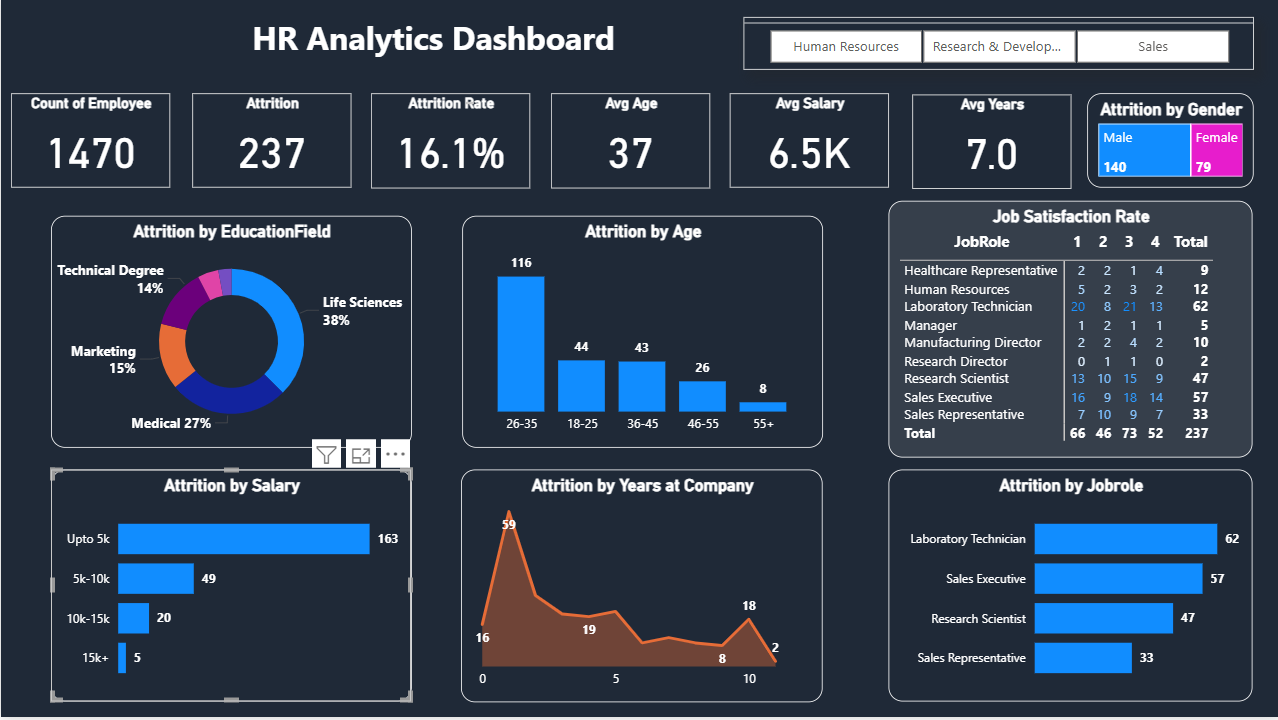

Layout of this report page (visuals, bound fields, positions):
{"tool":"powerbi","page":{"name":"Page 1","canvas":[1280,720],"ordinal":0},"visuals":[{"type":"card","title":"Count of Employee","fields":{"Values":["CountNonNull(HR_Analytics.EmpID)"]},"box":[9.7,96.5,159.3,94.1],"z":0},{"type":"card","title":"Attrition","fields":{"Values":["Sum(HR_Analytics.AttritionCount )"]},"box":[191.8,96.5,159.3,94.1],"z":1000},{"type":"card","title":"Attrition Rate","fields":{"Values":["HR_Analytics.AttritionRate"]},"box":[370.4,96.5,159.3,95.3],"z":2000},{"type":"card","title":"Avg Age","fields":{"Values":["Avg(HR_Analytics.Age)"]},"box":[550.1,96.5,159.3,95.3],"z":3000},{"type":"card","title":"Avg Salary","fields":{"Values":["Avg(HR_Analytics.MonthlyIncome)"]},"box":[728.7,96.5,159.3,94.1],"z":4000},{"type":"card","title":"Avg Years","fields":{"Values":["Avg(HR_Analytics.YearsAtCompany)"]},"box":[910.9,97.7,159.3,94.1],"z":5000},{"type":"donutChart","title":"Attrition by EducationField","fields":{"Category":["HR_Analytics.EducationField"],"Y":["Sum(HR_Analytics.AttritionCount )"]},"box":[49.5,218.4,360.7,231.6],"z":6000},{"type":"columnChart","title":"Attrition by Age","fields":{"Category":["HR_Analytics.AgeGroup"],"Y":["Sum(HR_Analytics.AttritionCount )"]},"box":[460.9,218.4,360.7,231.6],"z":7000},{"type":"pivotTable","title":"Job Satisfaction Rate","fields":{"Rows":["HR_Analytics.JobRole"],"Columns":["HR_Analytics.JobSatisfaction"],"Values":["Sum(HR_Analytics.AttritionCount )"]},"box":[887.9,203.9,364.3,257],"z":8000},{"type":"barChart","title":"Attrition by Salary","fields":{"Category":["HR_Analytics.SalarySlab"],"Y":["Sum(HR_Analytics.AttritionCount )"]},"box":[49.5,472.9,360.7,231.6],"z":9000},{"type":"barChart","title":"Attrition by Jobrole","fields":{"Category":["HR_Analytics.JobRole"],"Y":["Sum(HR_Analytics.AttritionCount )"]},"box":[887.9,472.9,364.3,231.6],"z":10000},{"type":"areaChart","title":"Attrition by Years at Company","fields":{"Category":["HR_Analytics.YearsAtCompany"],"Y":["Sum(HR_Analytics.AttritionCount )"]},"box":[459.7,472.9,361.9,232.8],"z":11000},{"type":"treemap","title":"Attrition by Gender","fields":{"Group":["HR_Analytics.Gender"],"Values":["Sum(HR_Analytics.AttritionCount )"]},"box":[1085.8,96.5,166.5,94.1],"z":12000},{"type":"slicer","fields":{"Values":["HR_Analytics.Department"]},"box":[742,20.5,510.3,53.1],"z":13000},{"type":"textbox","box":[191.8,13.3,482.6,53.1],"z":14000},{"type":"textbox","box":[100.1,100.1,377.6,12.1],"z":15000}]}

Visuals, with their boxes in screenshot pixels (x1, y1, x2, y2), scaled from the page's 1280x720 canvas onto the 1278x720 screenshot:
"Count of Employee" card: x1=10, y1=96, x2=169, y2=191
"Attrition" card: x1=192, y1=96, x2=351, y2=191
"Attrition Rate" card: x1=370, y1=96, x2=529, y2=192
"Avg Age" card: x1=549, y1=96, x2=708, y2=192
"Avg Salary" card: x1=728, y1=96, x2=887, y2=191
"Avg Years" card: x1=909, y1=98, x2=1069, y2=192
"Attrition by EducationField" donutChart: x1=49, y1=218, x2=410, y2=450
"Attrition by Age" columnChart: x1=460, y1=218, x2=820, y2=450
"Job Satisfaction Rate" pivotTable: x1=887, y1=204, x2=1250, y2=461
"Attrition by Salary" barChart: x1=49, y1=473, x2=410, y2=704
"Attrition by Jobrole" barChart: x1=887, y1=473, x2=1250, y2=704
"Attrition by Years at Company" areaChart: x1=459, y1=473, x2=820, y2=706
"Attrition by Gender" treemap: x1=1084, y1=96, x2=1250, y2=191
slicer - HR_Analytics.Department: x1=741, y1=20, x2=1250, y2=74
textbox: x1=192, y1=13, x2=673, y2=66
textbox: x1=100, y1=100, x2=477, y2=112
